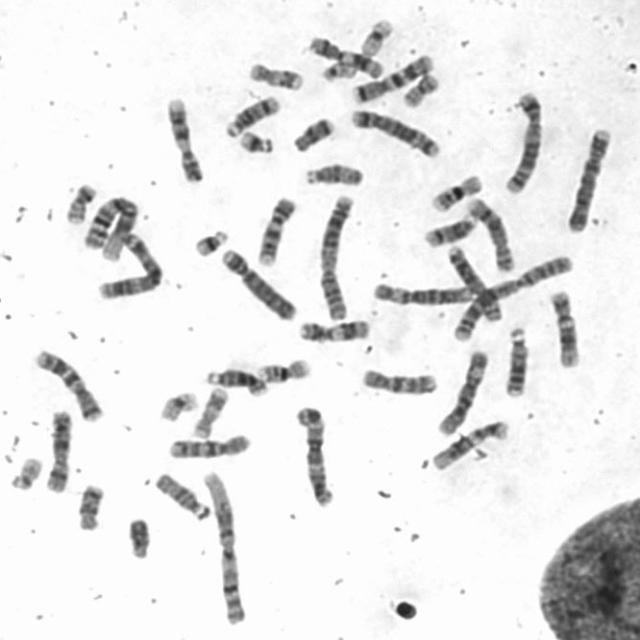A1: (199, 467, 248, 626), (81, 193, 140, 261)
A2: (448, 251, 576, 344), (314, 190, 356, 323)
A3: (94, 227, 164, 300), (292, 401, 336, 508)
B4: (217, 244, 299, 324), (563, 124, 615, 234)
B5: (346, 106, 443, 160), (504, 91, 548, 194)
C10: (164, 430, 252, 461), (358, 366, 438, 396)
C11: (305, 32, 385, 80), (295, 317, 371, 345)
C12: (429, 416, 510, 471), (546, 286, 581, 368)
C6: (434, 347, 490, 437), (368, 277, 476, 307)
C7: (30, 345, 105, 424), (349, 52, 435, 104)
C8: (444, 242, 504, 324), (463, 194, 517, 273)
C9: (162, 94, 205, 185), (253, 193, 299, 268)
D13: (500, 323, 530, 398), (203, 366, 269, 397)
D14: (222, 92, 282, 139), (420, 211, 479, 248)
D15: (152, 469, 211, 521), (301, 160, 366, 188)
E16: (426, 170, 485, 213), (253, 356, 313, 384)
E17: (188, 384, 230, 438), (245, 59, 307, 93)
E18: (290, 115, 338, 154), (72, 480, 106, 532)
F19: (355, 16, 396, 57), (156, 387, 201, 424)
F20: (399, 70, 442, 109), (62, 180, 98, 226)
G21: (190, 226, 231, 258), (234, 127, 277, 156)
G22: (7, 454, 44, 492), (318, 57, 358, 83)
X: (40, 406, 73, 494)
Y: (124, 514, 153, 560)
